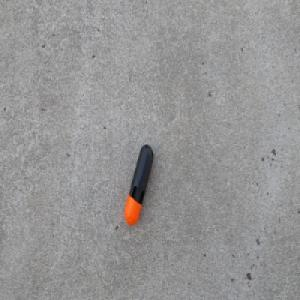PlasticPart: (124, 142, 154, 226)
